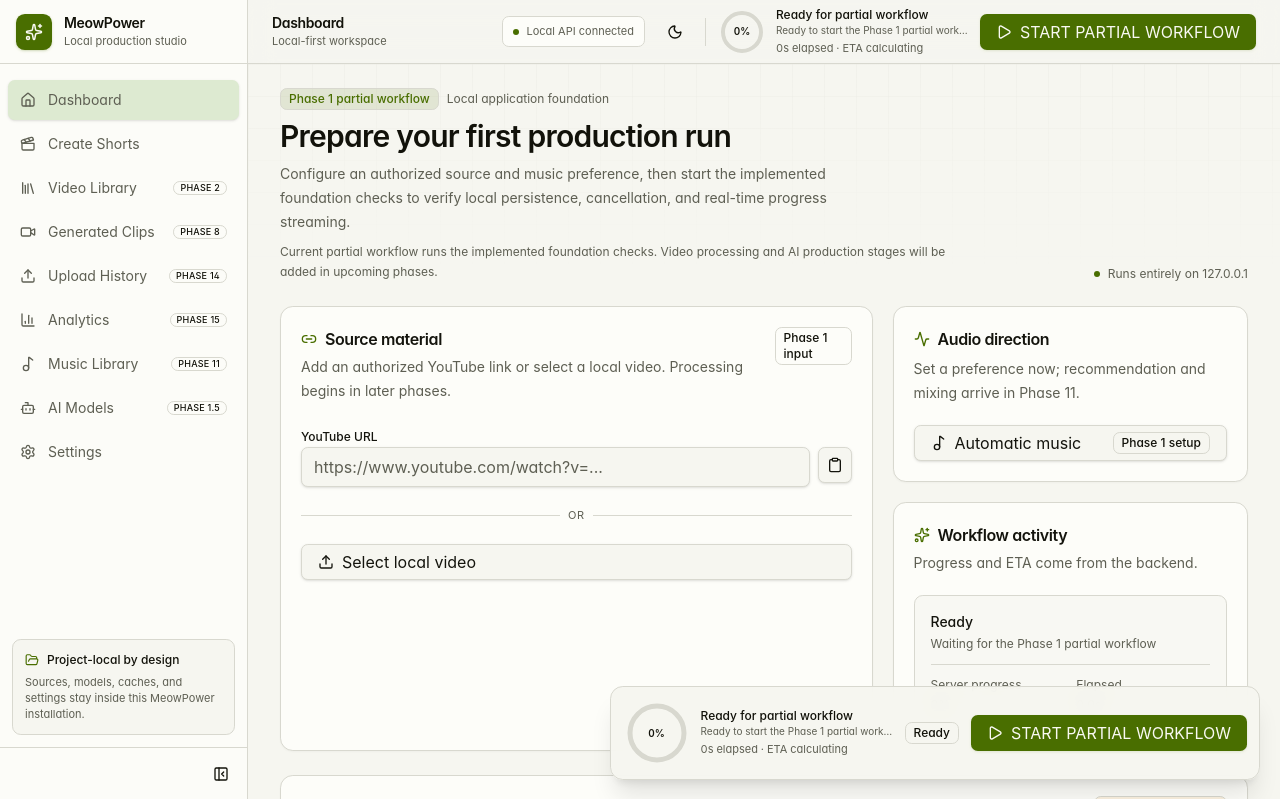
Scenario: Phase 1.5 provider discovery and credential profiles › loads the genuine model catalog after selecting a saved provider
The image size is (1280, 799).
Later steps or results of the test are not shown.
Click the link "AI Models Phase 1.5". click: (81, 408)
box: x1=20 y1=399 x2=227 y2=416
(page scrolled)
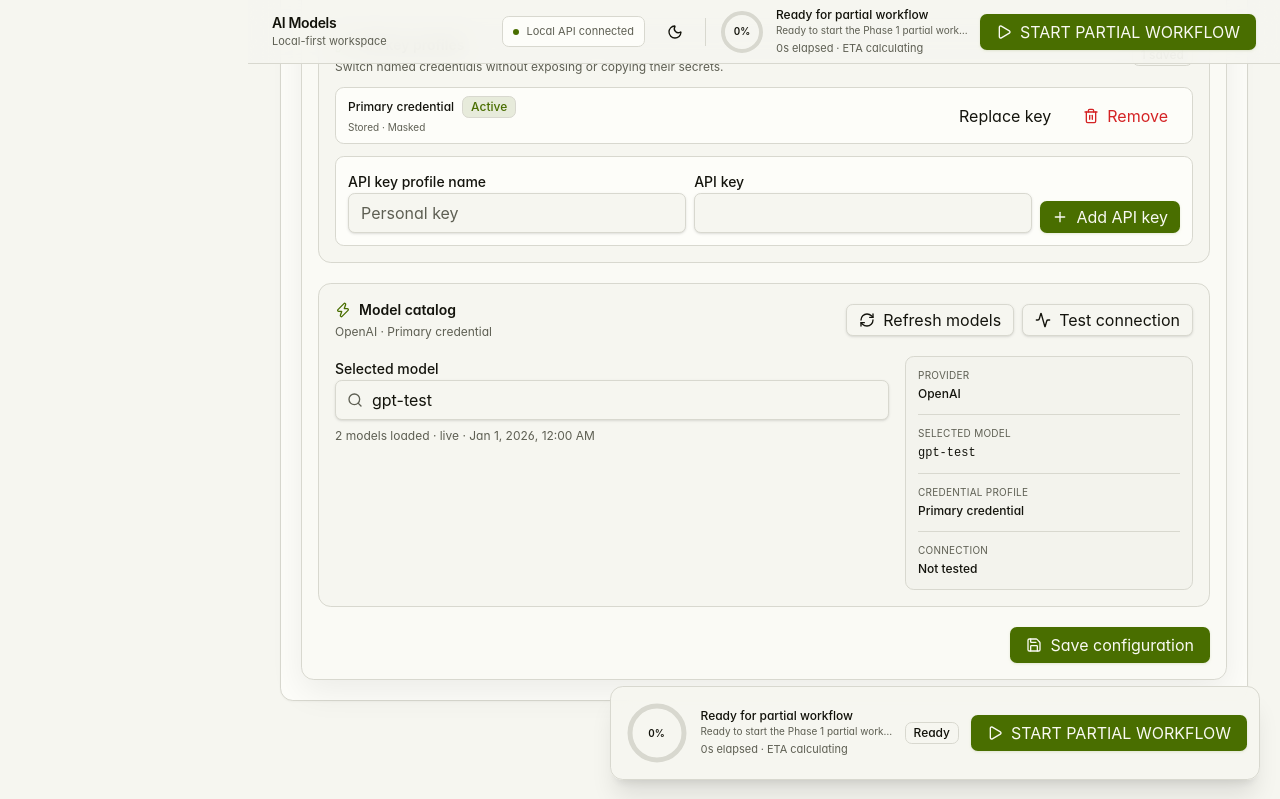
Now the text "2 models loaded · live · Jan 1, 2026, 12:00 AM" is shown, box x1=335 y1=428 x2=595 y2=443
